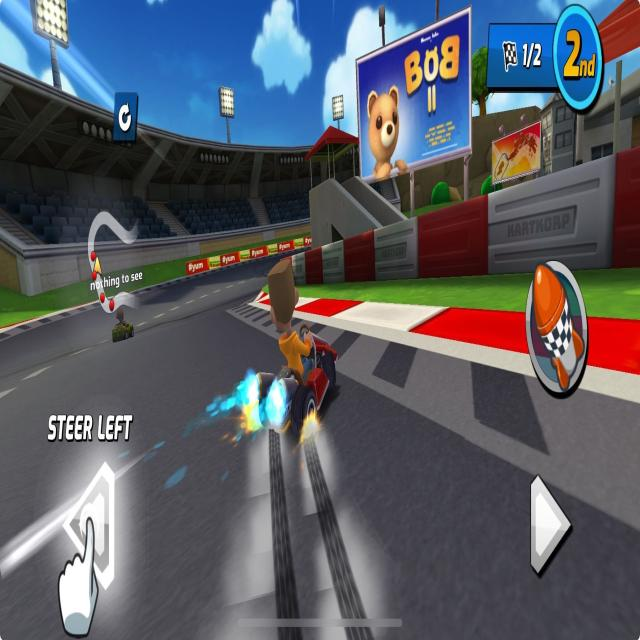billboard: (357, 7, 471, 182)
